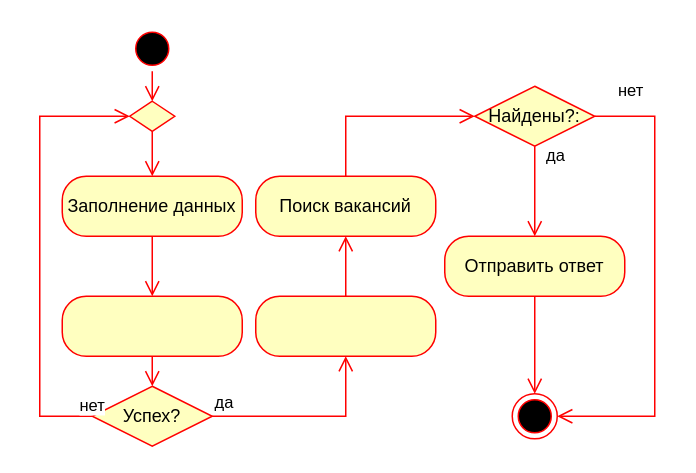
This 696x473 diagram has some shape labels left out. Each missing label, with the centre of its shape:
Валидация данных: point 151,325
Сохранение в БД: point 345,325
